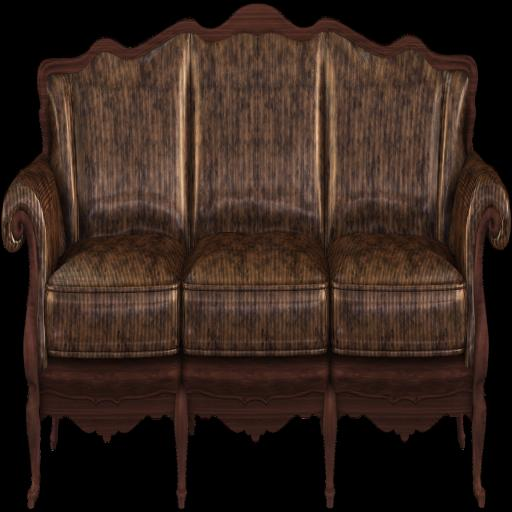back_cushion: (47, 33, 468, 250)
base: (40, 352, 473, 440)
left_arm: (449, 153, 511, 369)
legs: (471, 208, 498, 507), (15, 211, 41, 508), (322, 384, 338, 507), (173, 386, 189, 508), (50, 419, 59, 449), (457, 415, 465, 448)
right_arm: (1, 154, 65, 370)
seat_cushion: (39, 233, 468, 358)
stallion-sofa: (0, 0, 245, 215), (271, 0, 512, 199), (334, 416, 478, 511), (34, 417, 178, 511), (186, 416, 327, 511), (482, 239, 512, 511), (0, 242, 30, 511)
